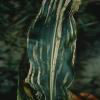Corn leaf blight: (28, 1, 81, 99)
